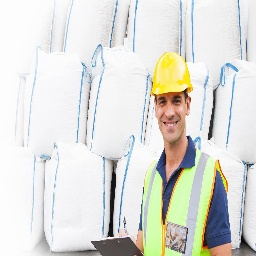helmet: (149, 50, 194, 98)
person: (132, 46, 233, 256)
vest: (142, 149, 232, 256)
